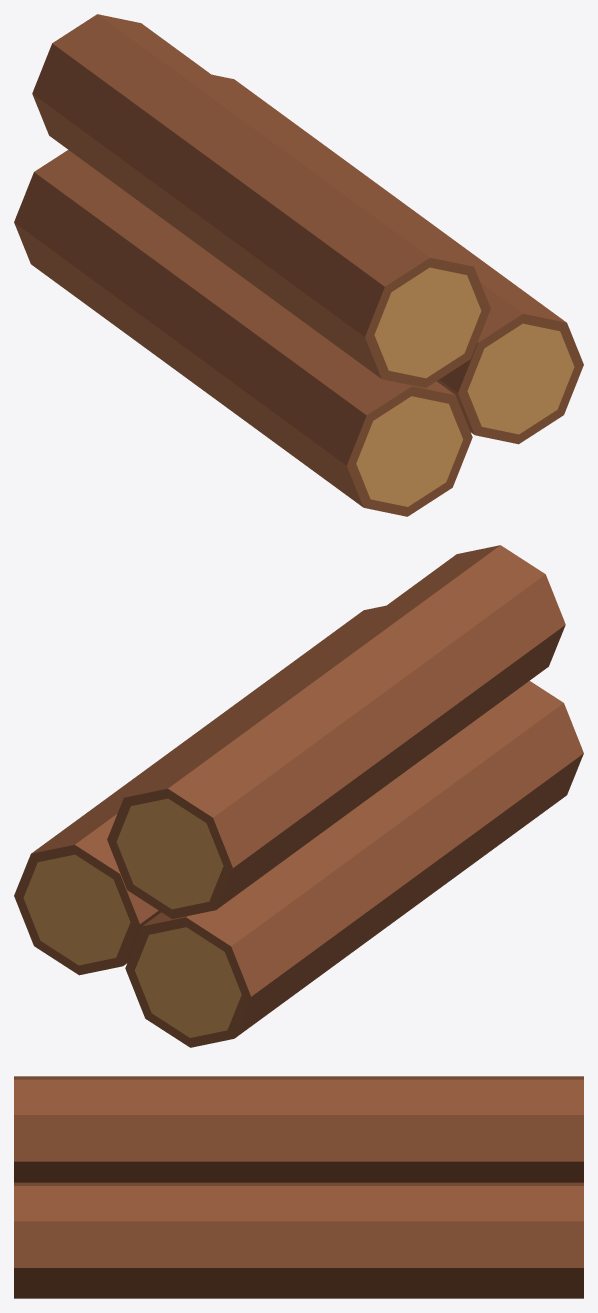
File: log_pile.dae
The picture shows the model from 3 angles, top to bottom: view 1: azimuth 30°, elevation 25°; view 2: azimuth 150°, elevation 25°; view 3: azimuth 270°, elevation 25°; orthographic projection. The views are drawn at different scales.
Parts seen in each view (by area): view 1: Log Pile; view 2: Log Pile; view 3: Log Pile.
Part boxes in pixels (box(x1,y1,x2,y2)): Log Pile: box(14, 14, 583, 516); Log Pile: box(14, 545, 583, 1047); Log Pile: box(14, 1076, 583, 1298).
Size of the model in its own units: 0.2694 by 0.6544 by 0.2752.
Materials: 1 (1 with a texture image).
